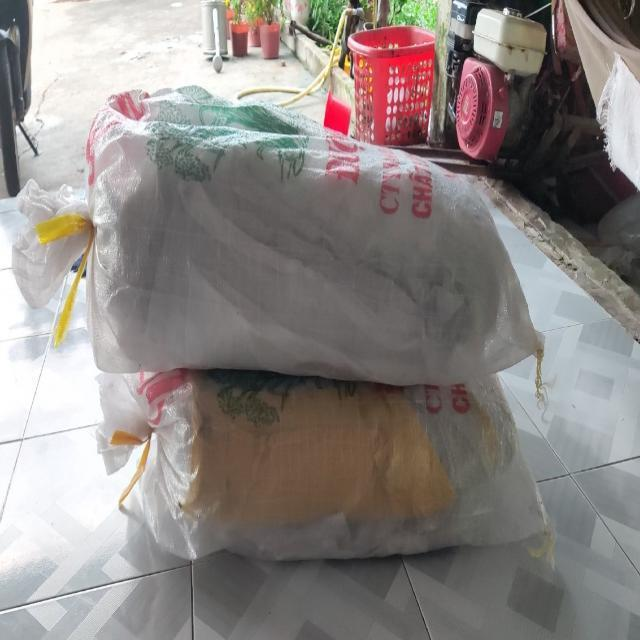gunny_bag: (86, 85, 543, 385), (98, 369, 552, 560)
